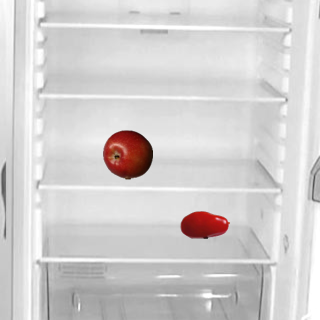Apple Braeburn: (102, 129, 152, 179)
Tomato 2: (179, 199, 229, 249)
